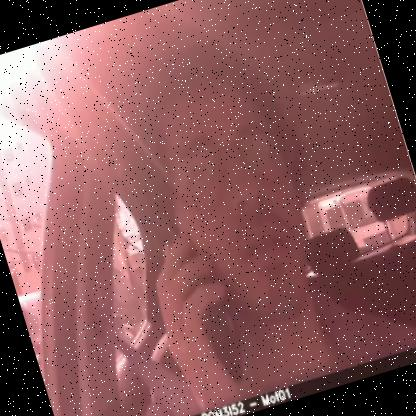phone: (154, 218, 252, 387)
